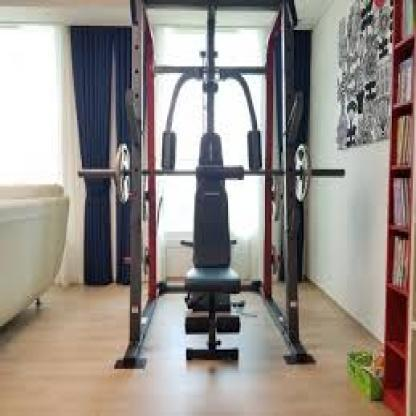smith machine: (122, 0, 314, 369)
